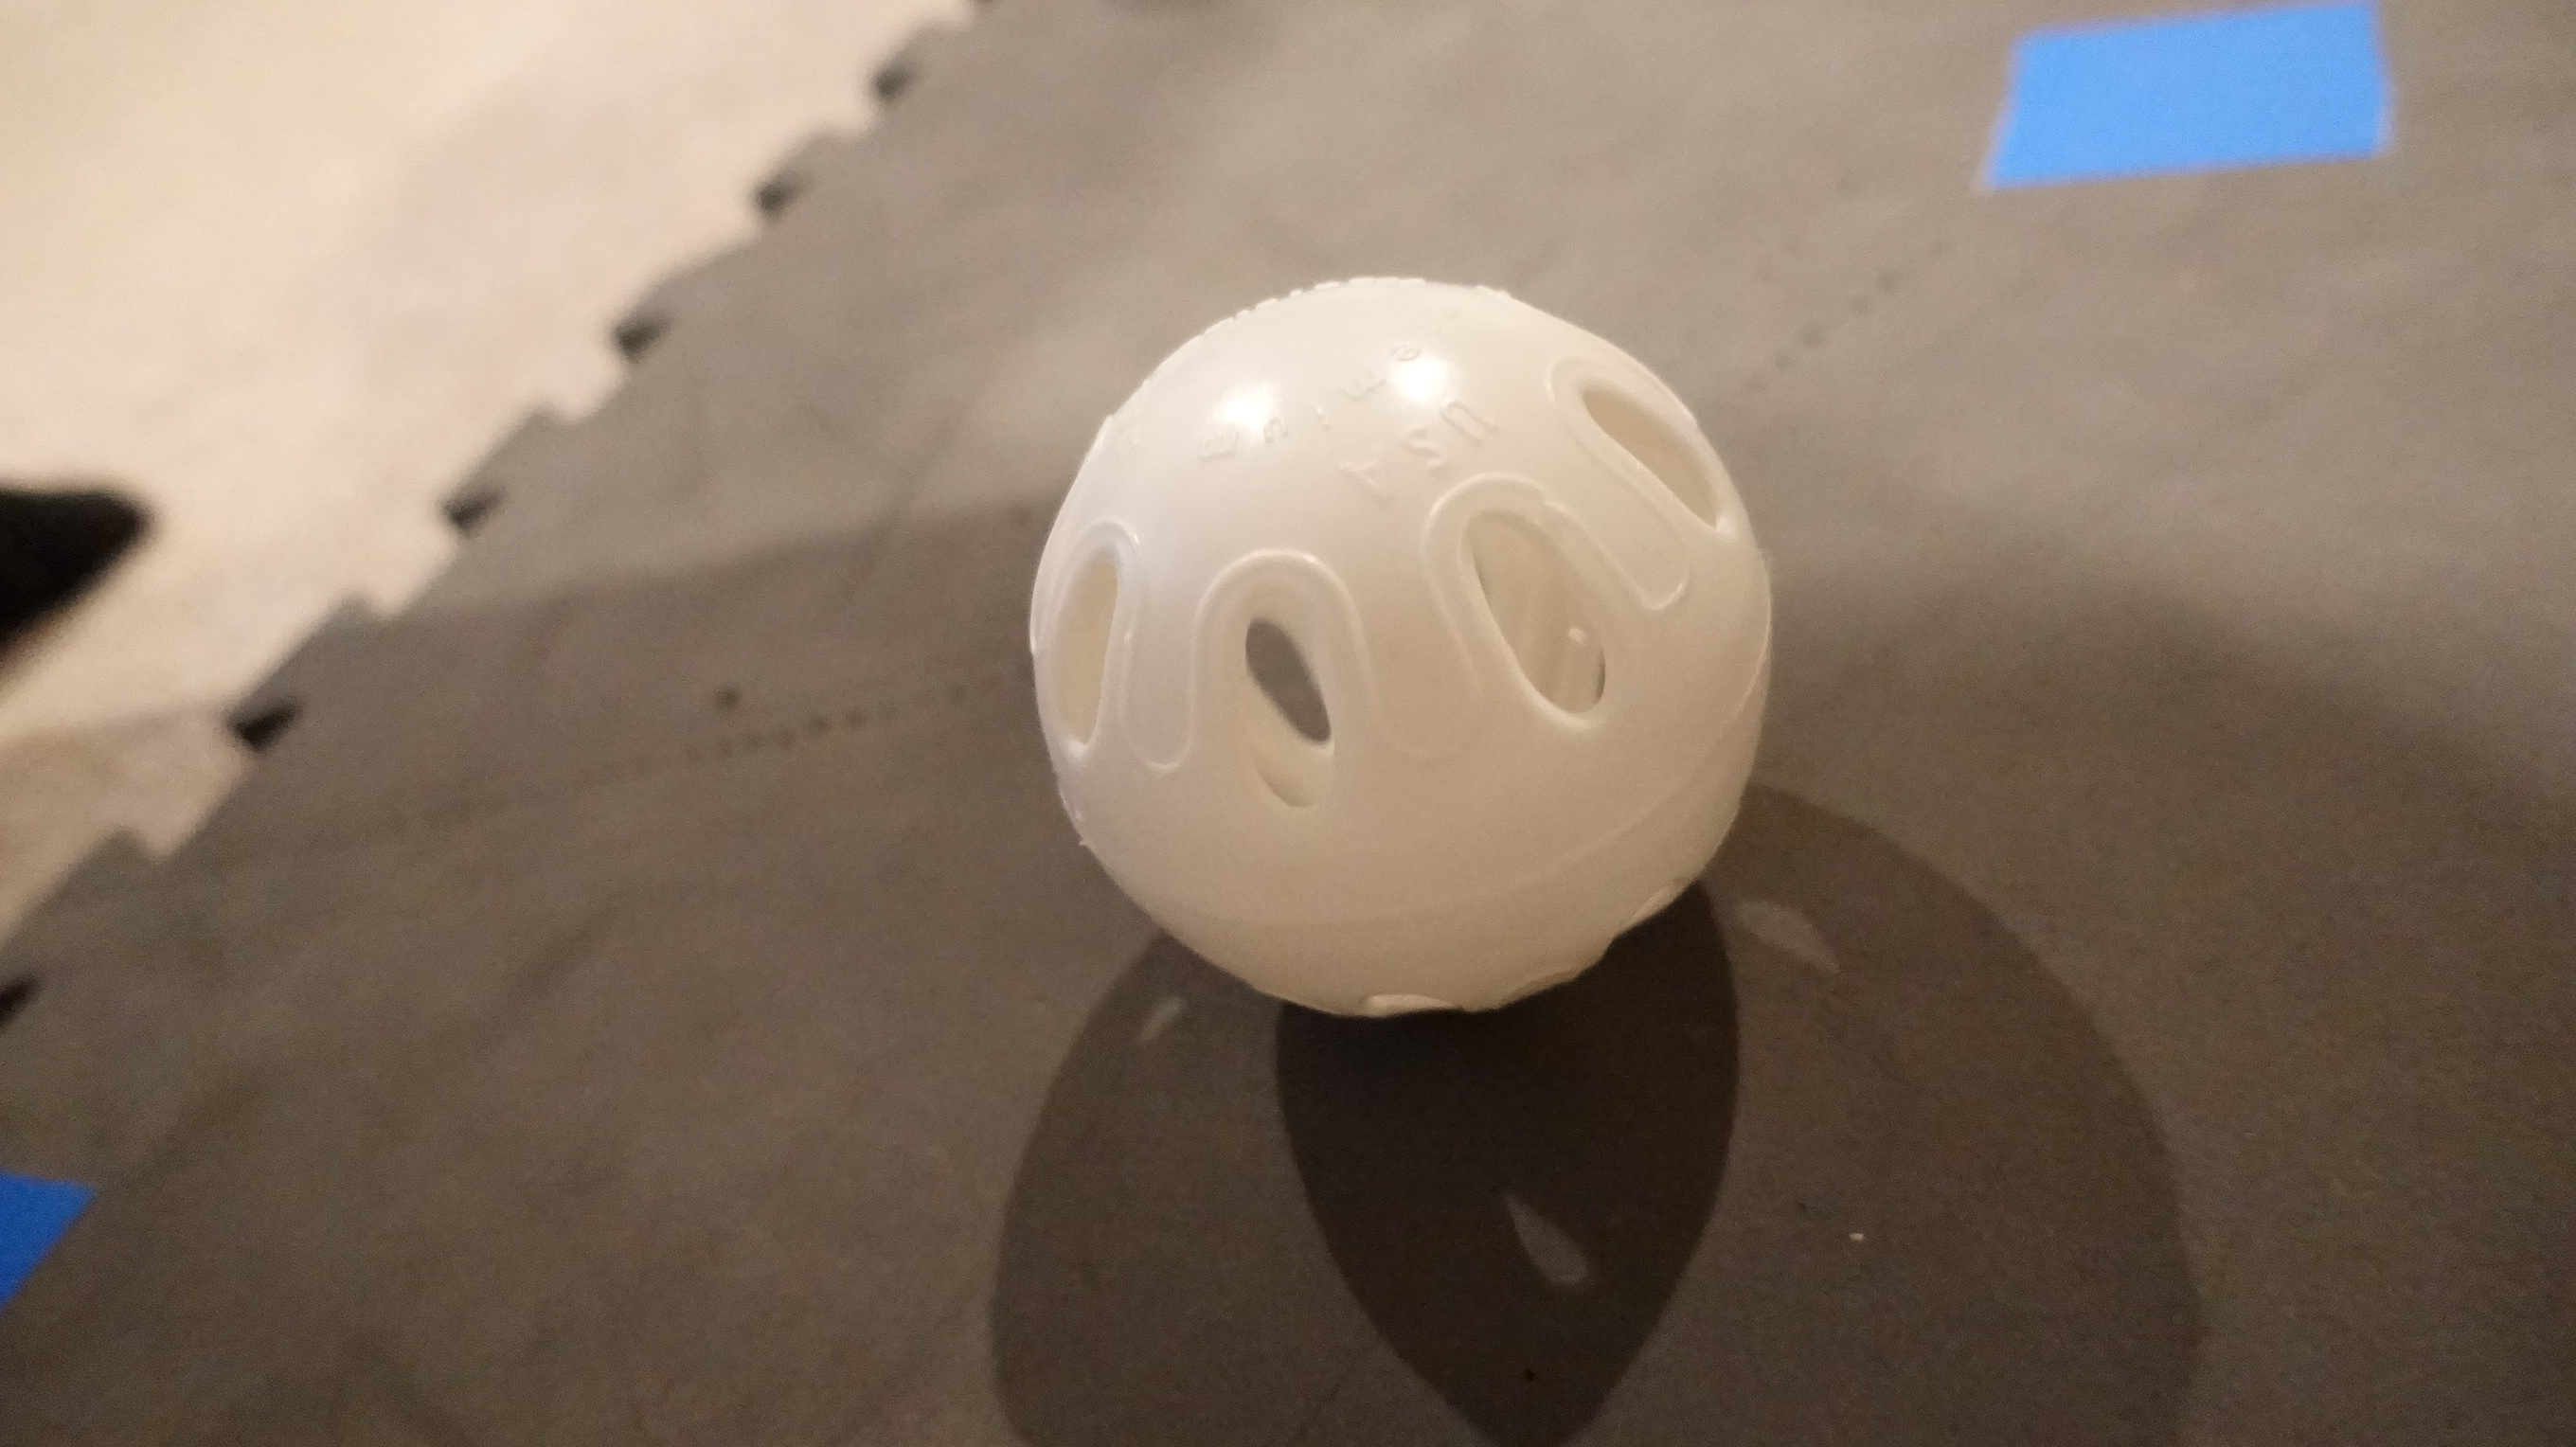silver: (1019, 258, 1790, 1061)
